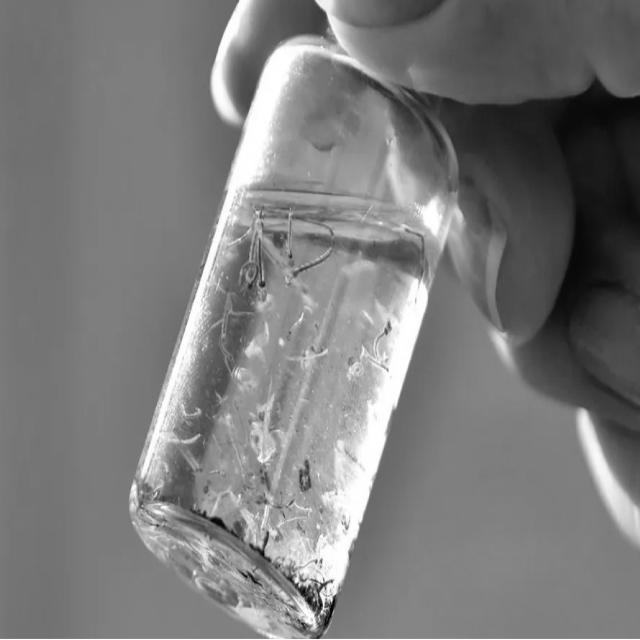larvas: (401, 228, 426, 293), (285, 257, 328, 288), (176, 444, 204, 472), (363, 345, 389, 373), (374, 320, 392, 353), (237, 263, 258, 289), (287, 312, 304, 340), (254, 498, 294, 509), (248, 223, 259, 260), (345, 449, 364, 470), (298, 458, 310, 490), (259, 225, 265, 287), (220, 339, 233, 365), (172, 433, 202, 444), (348, 360, 362, 381), (180, 408, 204, 419), (288, 205, 292, 258), (320, 580, 336, 591), (205, 484, 217, 498), (342, 512, 350, 532), (315, 570, 327, 582), (223, 310, 228, 336), (312, 347, 326, 356), (303, 559, 317, 568), (209, 469, 227, 476), (262, 534, 268, 554), (250, 418, 260, 430), (278, 509, 288, 517), (300, 573, 308, 582), (312, 579, 321, 585)
